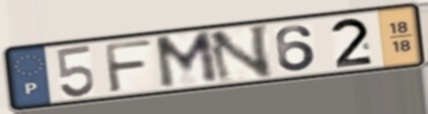2: (330, 16, 376, 70)
5: (54, 43, 97, 99)
6: (273, 25, 319, 73)
F: (101, 38, 155, 95)
M: (151, 28, 222, 92)
N: (205, 22, 275, 86)
